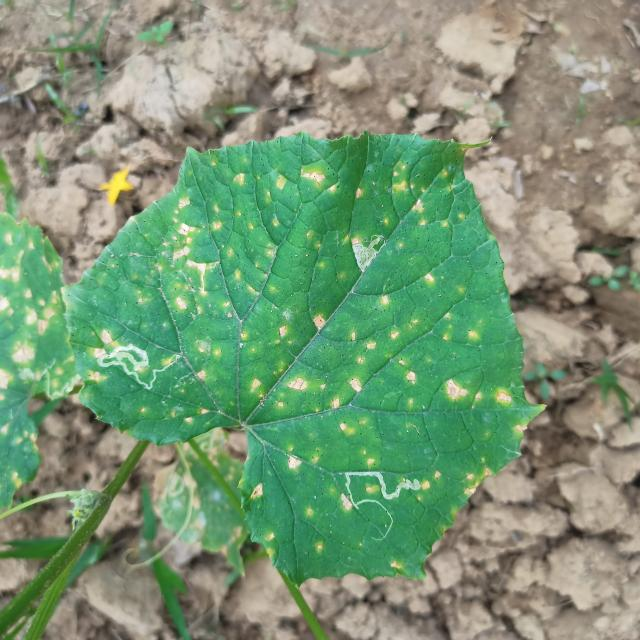disease_cucumber: (88, 156, 523, 544), (0, 220, 75, 464)
